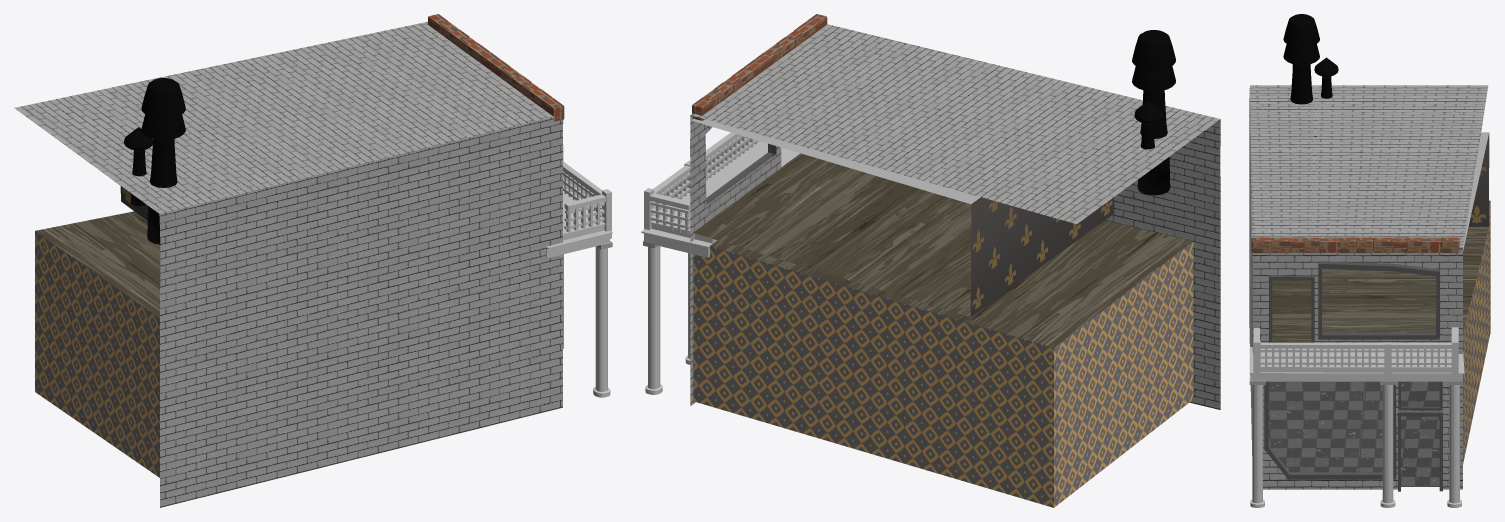
File: Left Building.fbx
3 views of the same model, side by side, from view 1: azimuth 30°, elevation 25°; view 2: azimuth 150°, elevation 25°; view 3: azimuth 270°, elevation 25° (orthographic). The views are drawn at different scales.
Visible parts, largest first — view 1: Pastry_Building_Front, Floor_1_Bottom_Rm; view 2: Floor_1_Bottom_Rm, Pastry_Building_Front, Floor_2_Top_Rm; view 3: Pastry_Building_Front, Floor_1_Bottom_Rm, Floor_2_Top_Rm.
Part boxes in pixels (x1,y1,x2,y2): Pastry_Building_Front: (14,14,612,507); Floor_1_Bottom_Rm: (35,211,160,477); Floor_1_Bottom_Rm: (693,220,1193,507); Pastry_Building_Front: (641,14,1220,409); Floor_2_Top_Rm: (691,119,1114,317); Pastry_Building_Front: (1249,14,1488,507); Floor_1_Bottom_Rm: (1268,200,1490,486); Floor_2_Top_Rm: (1272,132,1489,342).
Bounding box in the file's own units: 62.51 × 51.6 × 34.87.
